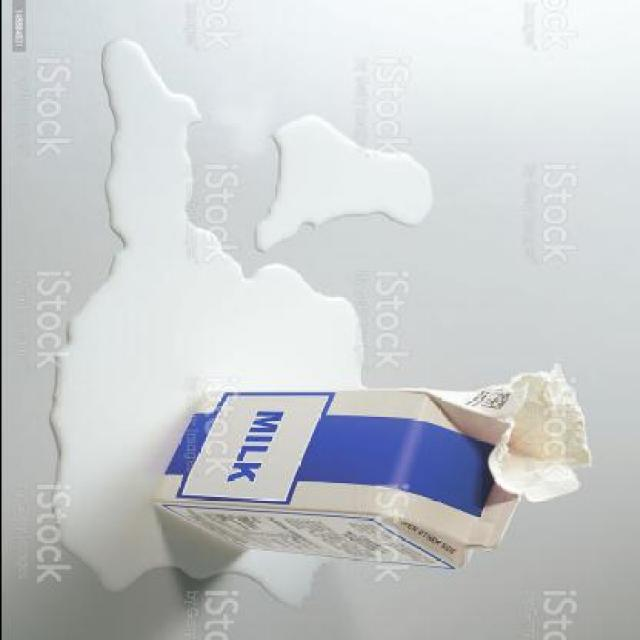non_white_jug: (142, 364, 595, 573)
